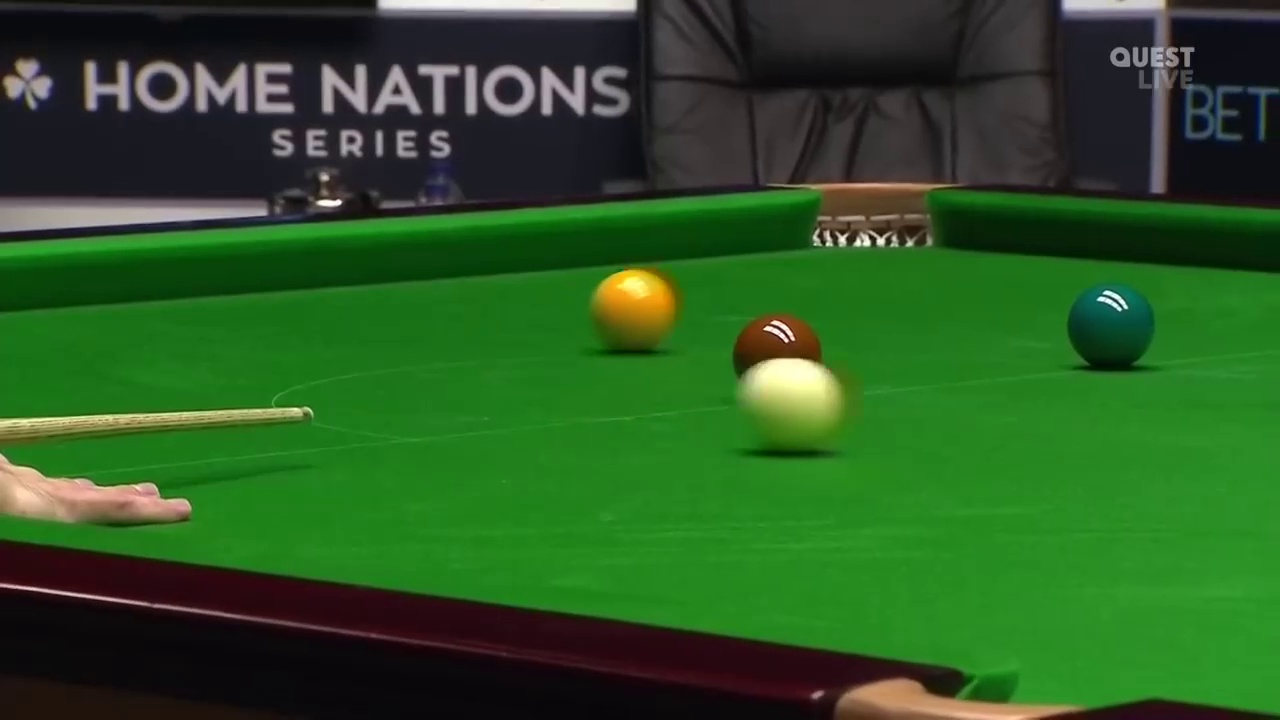ball: (1062, 286, 1156, 371)
